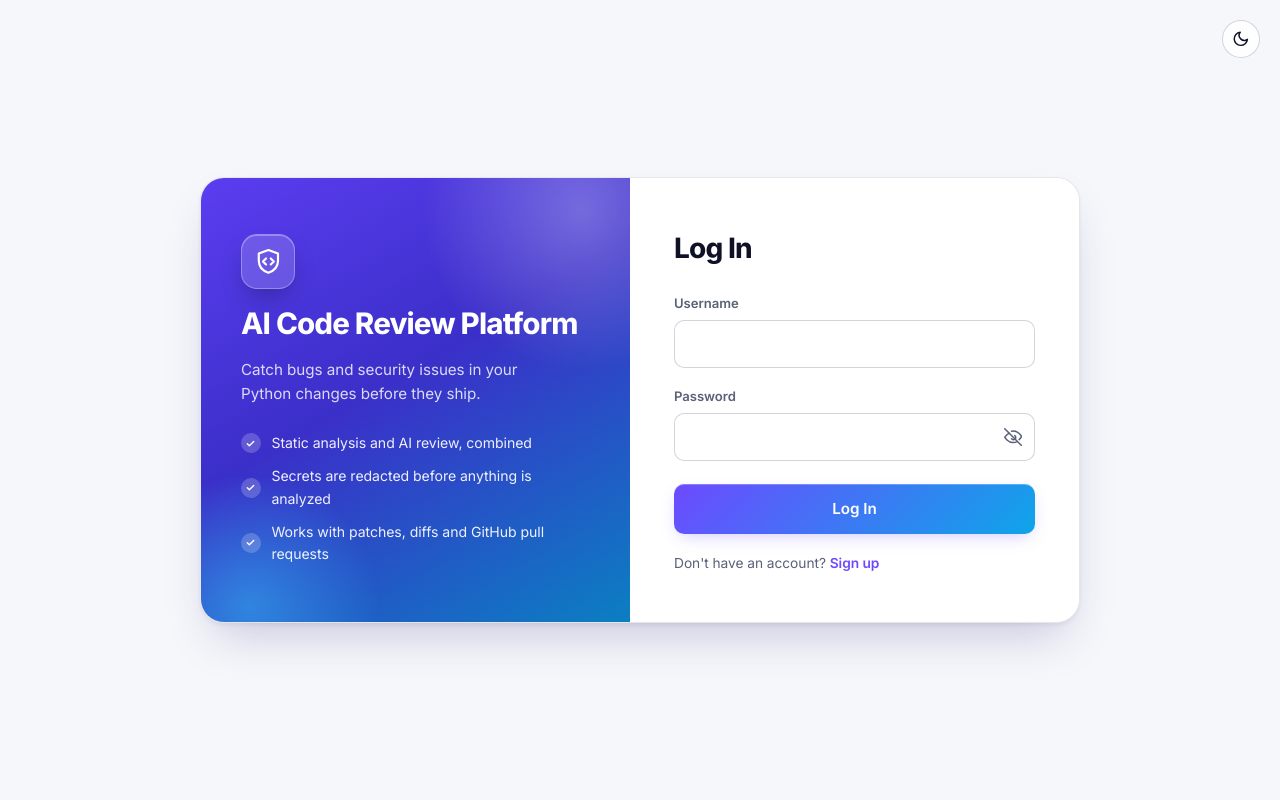
Test: Login page › links to sign up
This screenshot has width=1280, height=800.
Step 1. Click the link "Sign up" → (855, 563), box [830,555,879,571]
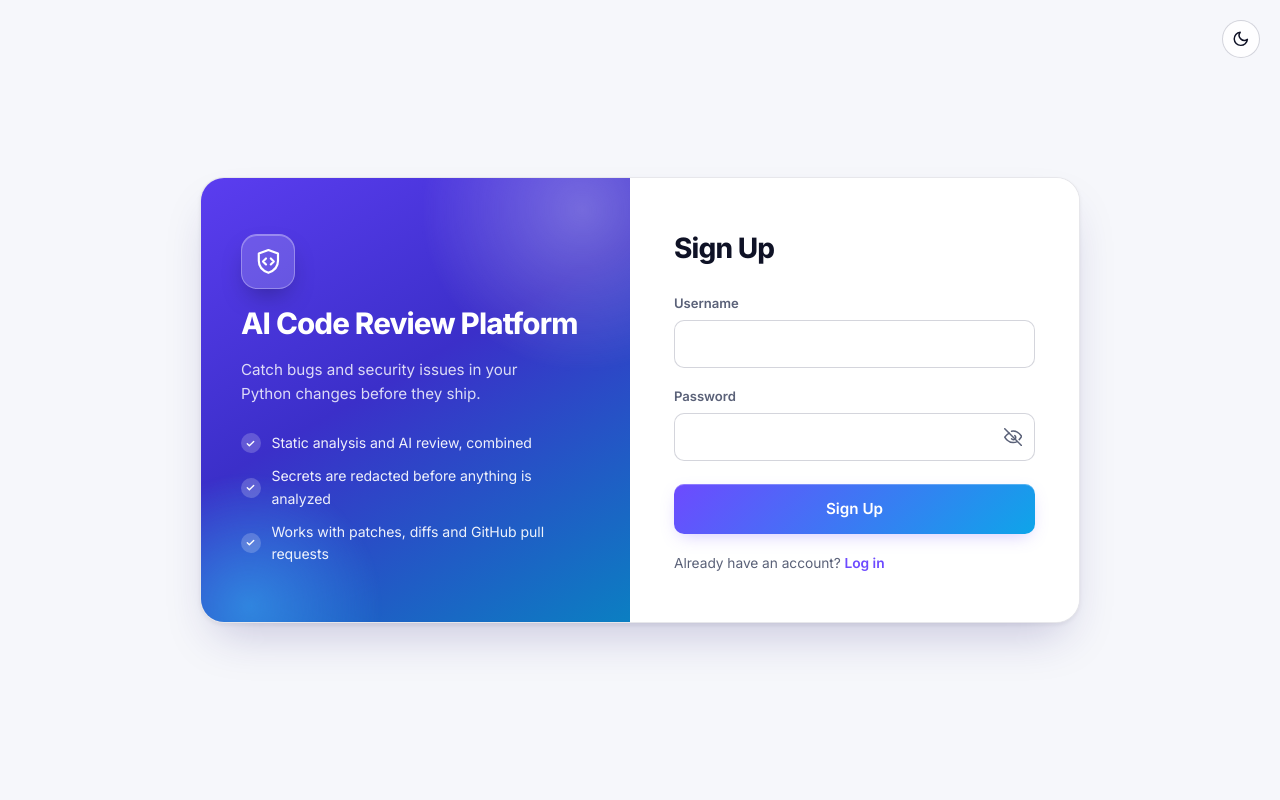
Expected: the heading "Sign Up" is shown, [674,231,774,265]
